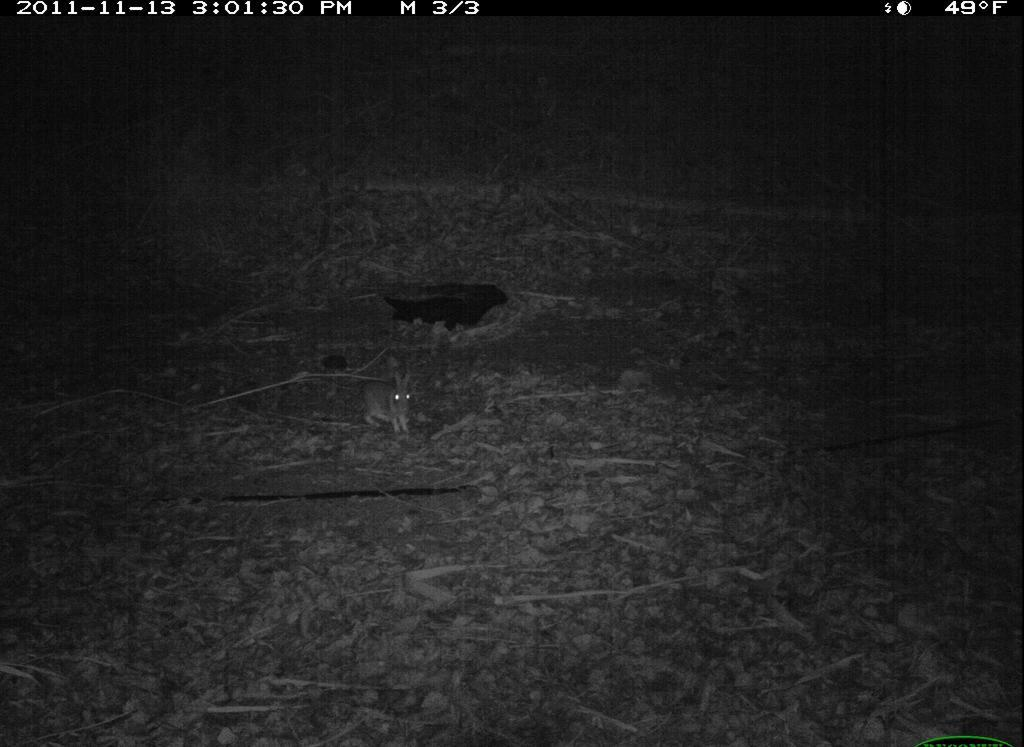rabbit: (356, 367, 432, 442)
